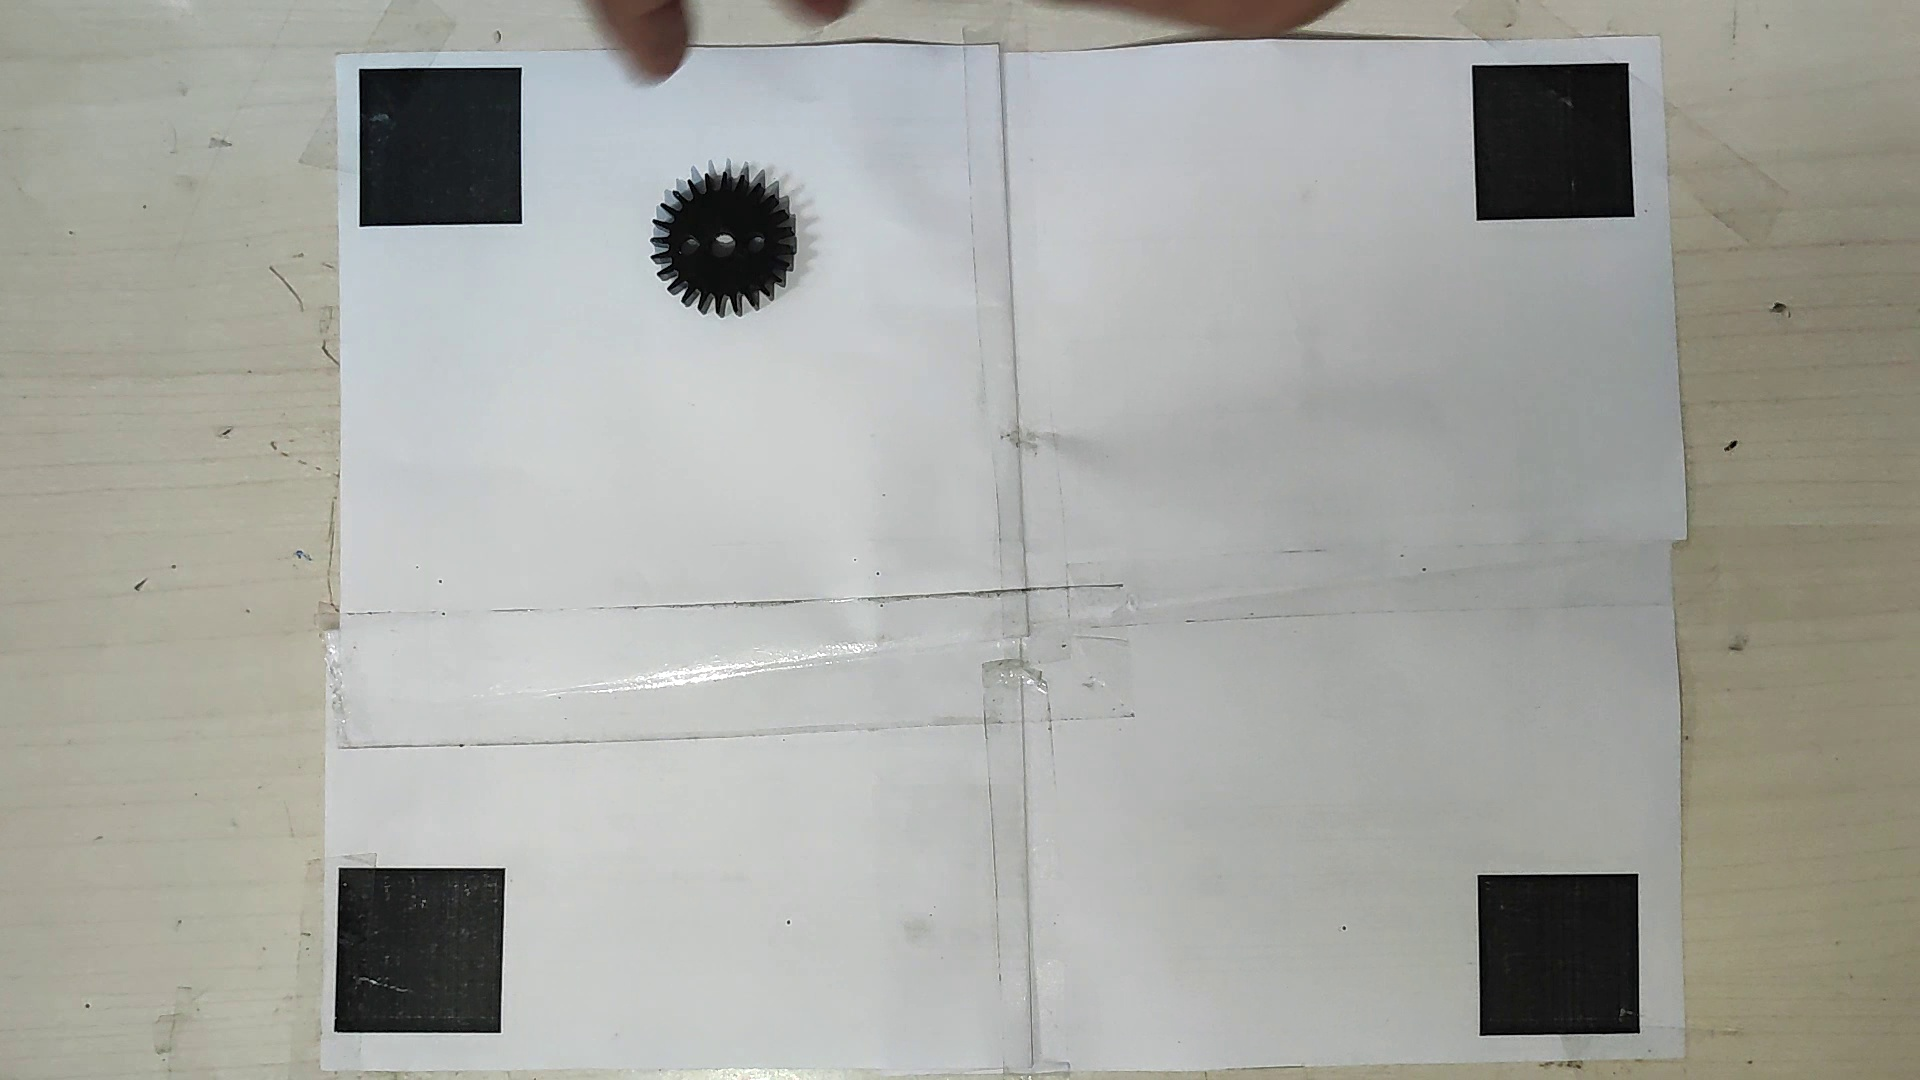Gear: (646, 172, 799, 313)
